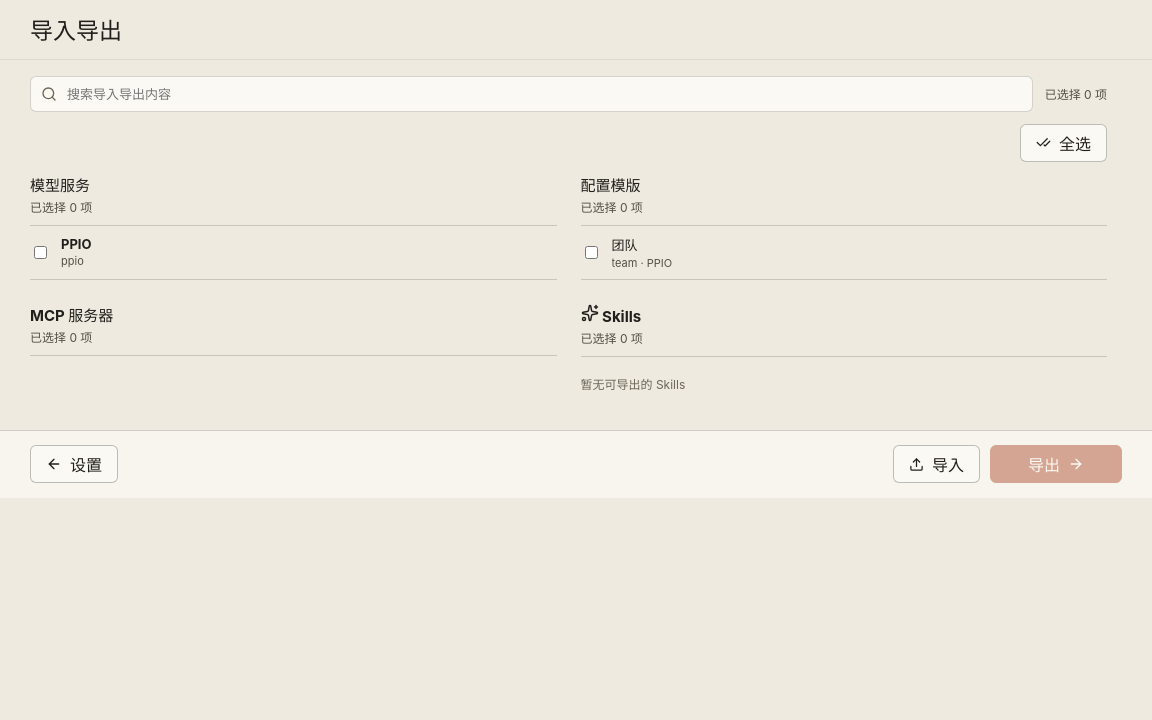
Scenario: TransferPage › selects all providers and profiles
Click the button "全选" at (1064, 143), box [1020,124,1107,162]
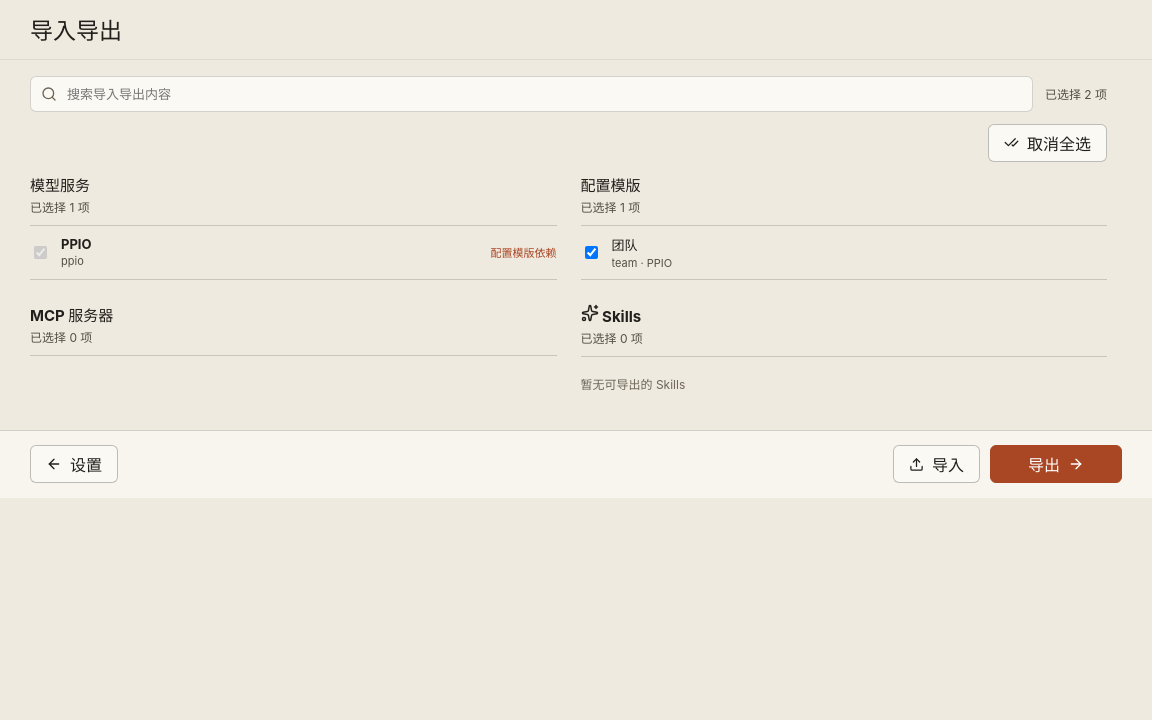
Expected: the checkbox labelled "团队 team · PPIO" is checked, [584,246,598,259]
Expected: the checkbox labelled "PPIO ppio 配置模版依赖" is checked, [34,246,47,259]
Expected: the button "取消全选" is shown, [988,124,1107,162]
